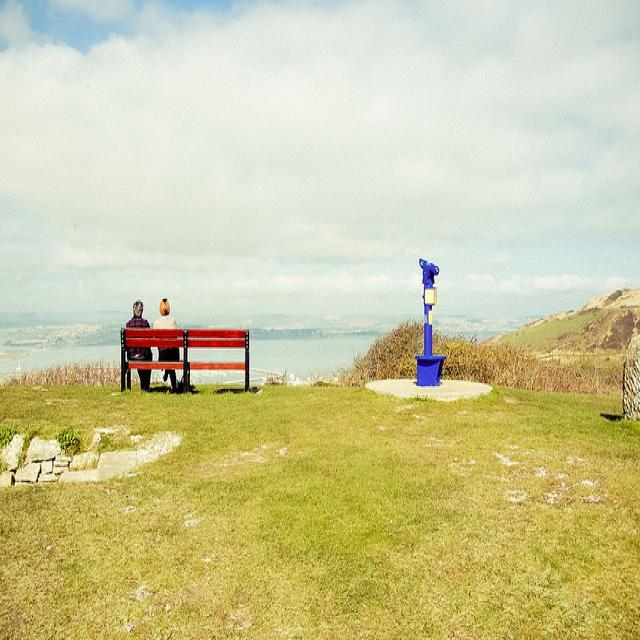fire_hydrant: (414, 257, 447, 386)
